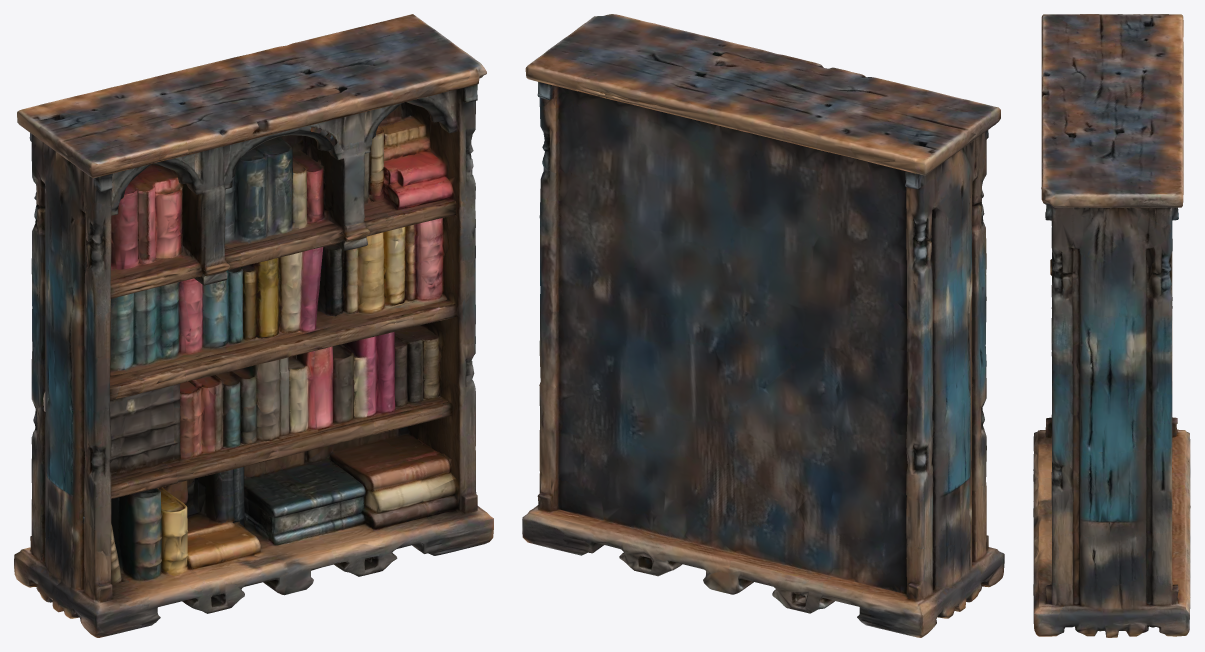
Rendered from lib_bookshelf.glb.
The picture shows the model from 3 angles, left to right: view 1: azimuth 30°, elevation 25°; view 2: azimuth 150°, elevation 25°; view 3: azimuth 270°, elevation 25°; orthographic projection. The views are drawn at different scales.
Size of the model in its own units: 1.68 by 1.9 by 0.612.
Materials: 1 (1 with a texture image).
